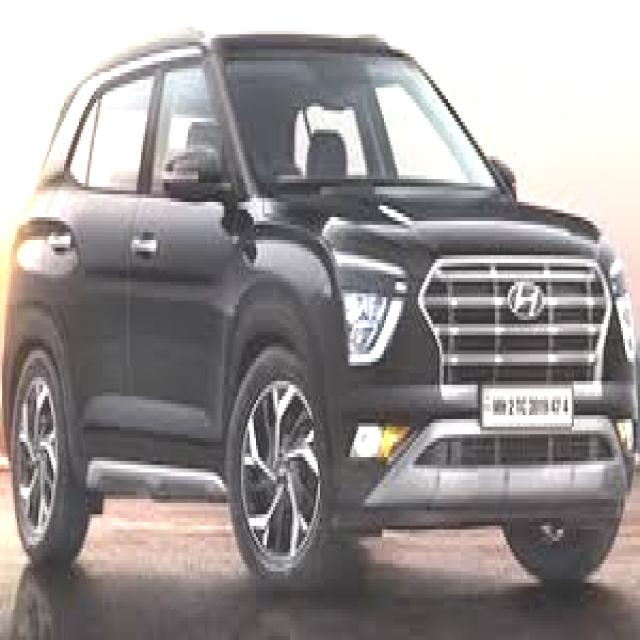SUV: (37, 20, 640, 606)
